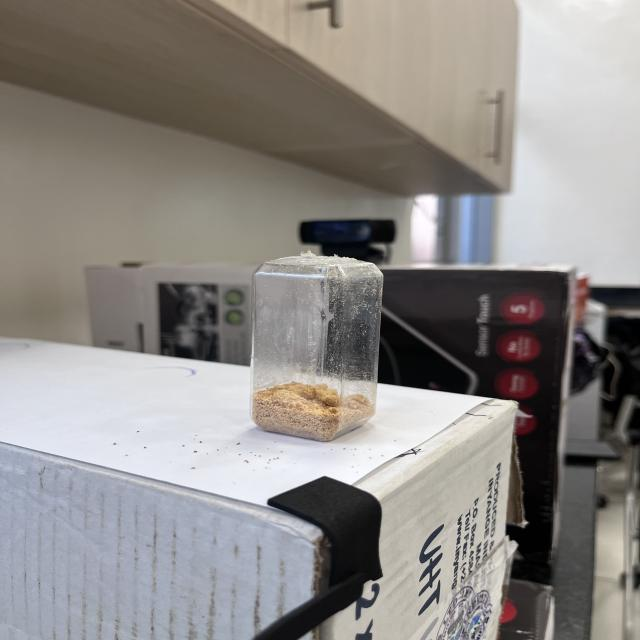garlic_powder: (254, 381, 372, 440)
